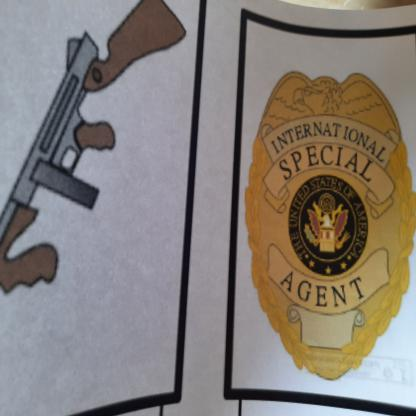Bootlegger: (2, 2, 192, 326)
G-man: (237, 56, 416, 388)
